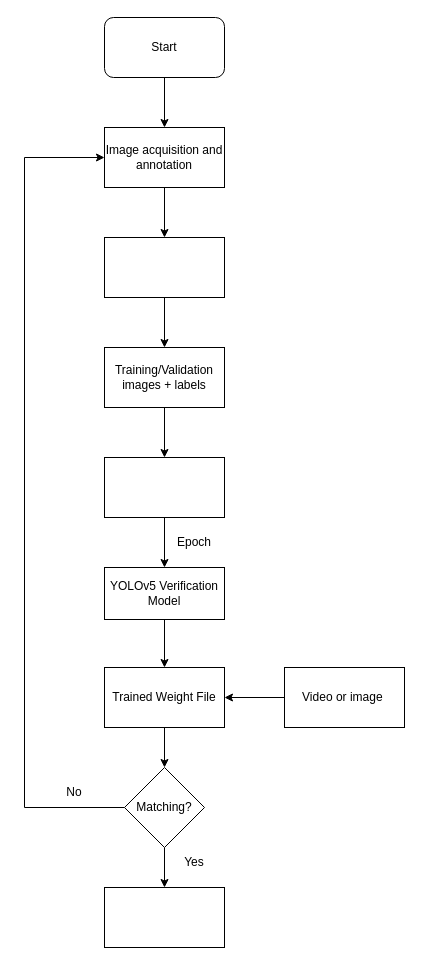
Some shapes in this 422 by 965 pixel diagram are drawn without their labels. Each missing label, with the centre of its shape:
Image preprocessing: [164,267]
Output: [164,917]
YOLOv5 Training Model: [164,487]
